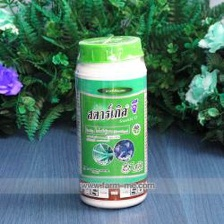insecticide: (72, 32, 152, 211)
